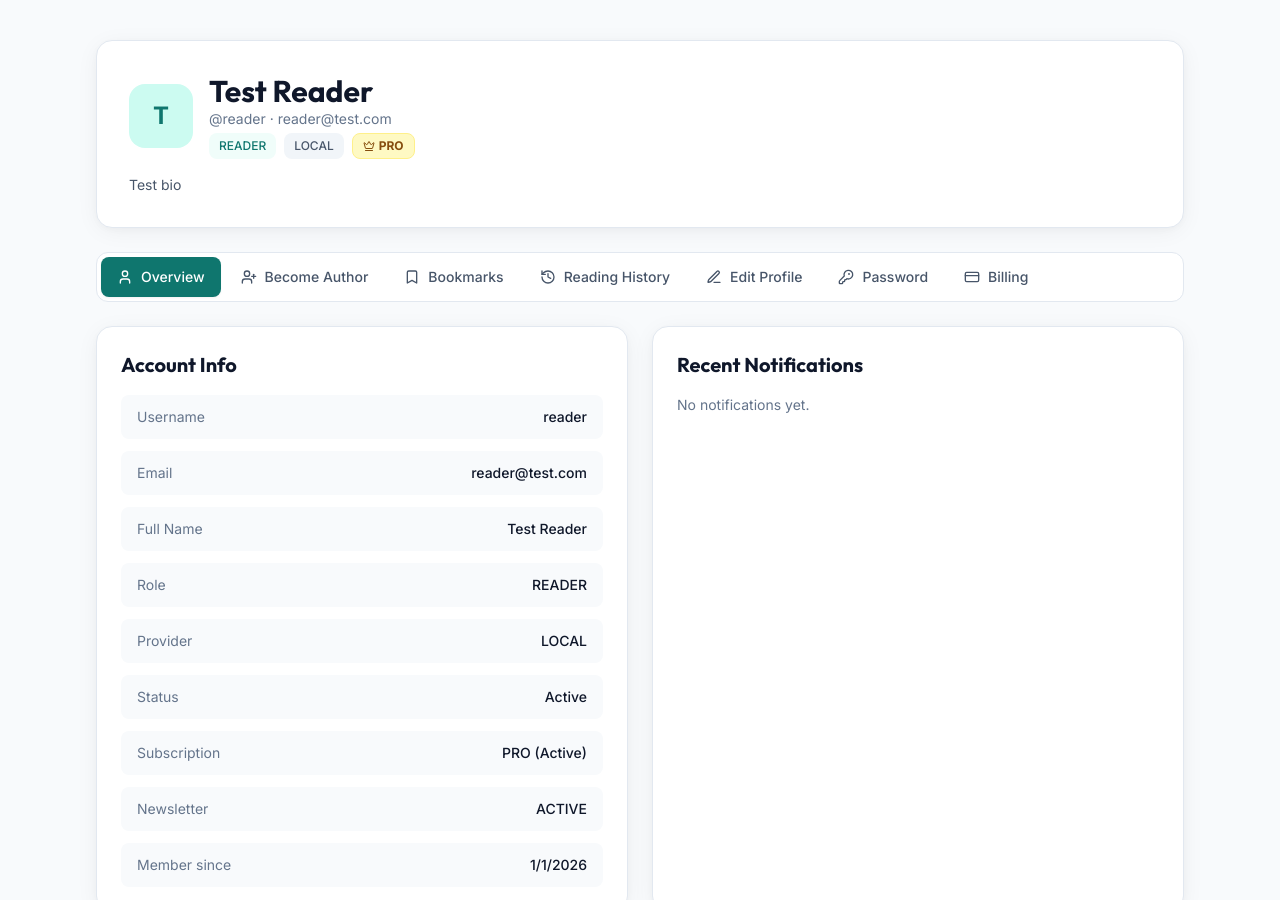
ProfilePage › shows saved posts for PRO user
The width and height of the screenshot is (1280, 900).
Click the button "Bookmarks" at [454, 277], box [388,257,520,297]
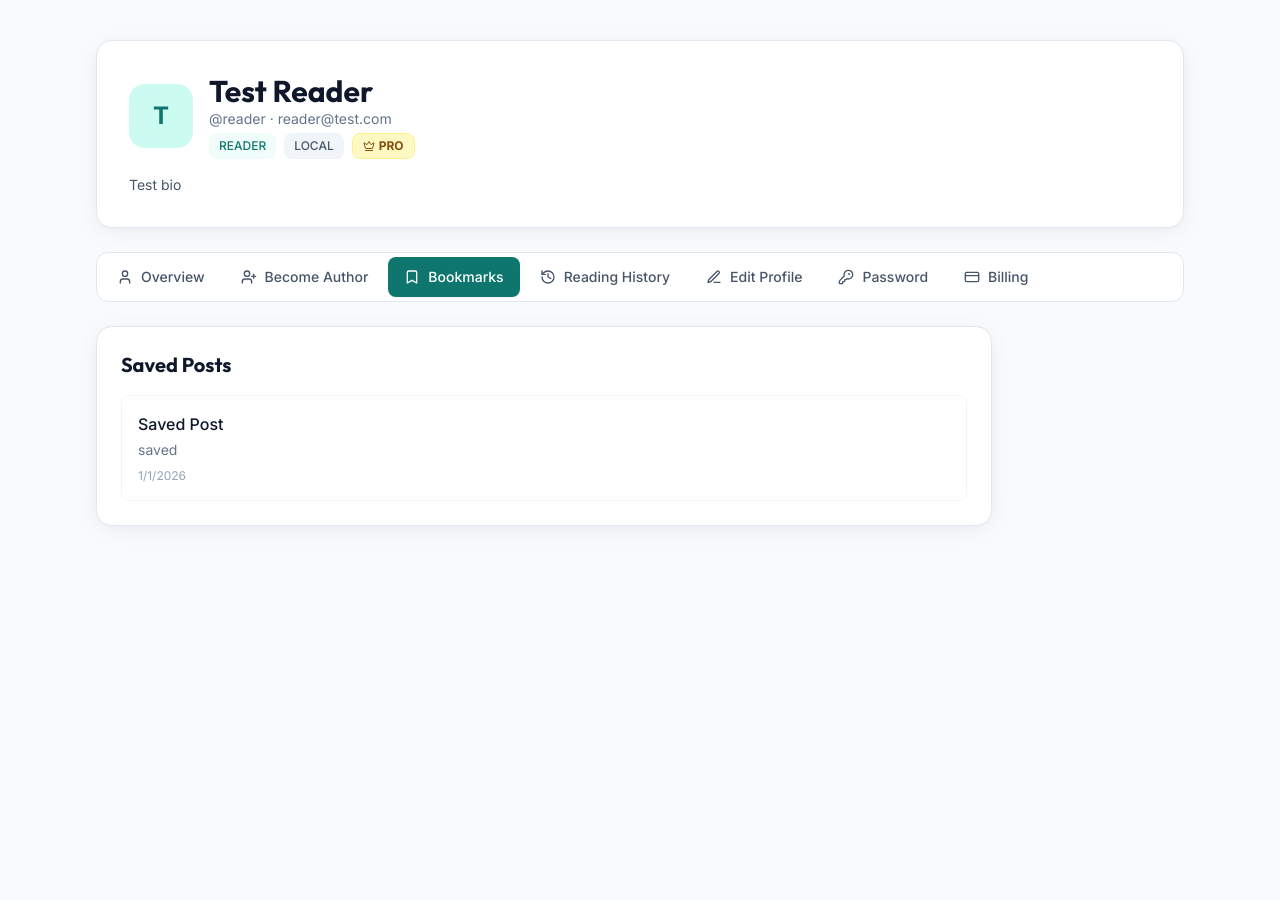
Expected: the heading "Saved Post" is shown, [138,414,224,434]
